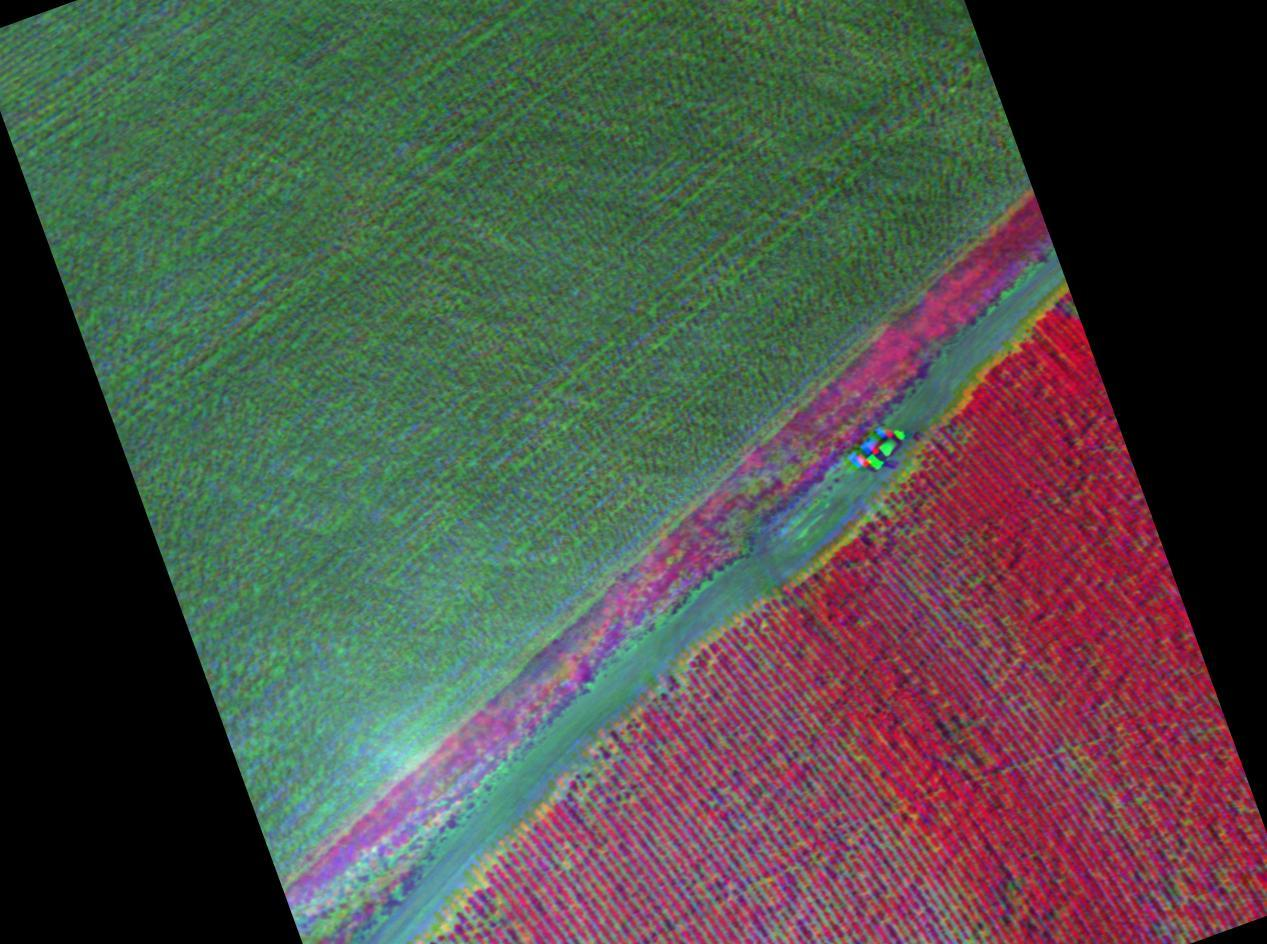dc: (760, 728, 832, 788), (476, 874, 537, 933), (909, 576, 969, 630), (925, 891, 984, 944), (579, 753, 629, 815)
